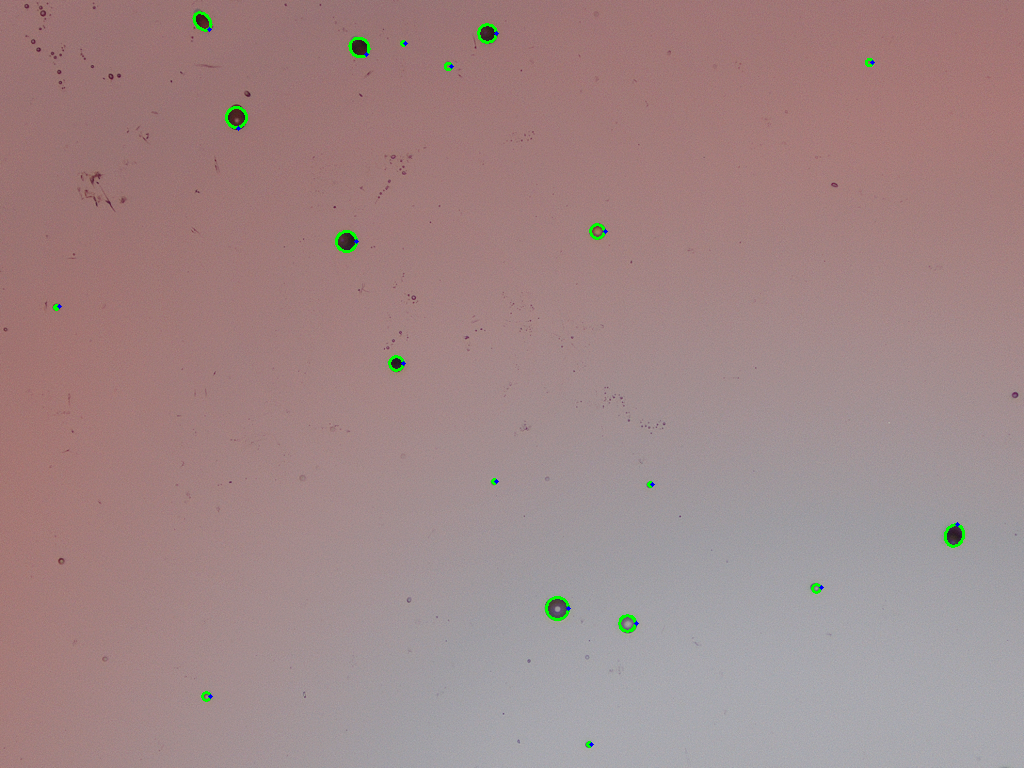circle: (545, 596, 568, 620), (478, 24, 496, 42), (619, 615, 636, 632), (589, 223, 605, 239), (388, 356, 403, 371), (811, 583, 821, 592), (202, 692, 210, 701), (444, 62, 451, 69), (866, 59, 872, 65), (53, 304, 59, 309), (400, 40, 405, 45), (491, 479, 496, 484), (647, 482, 652, 487), (586, 742, 591, 747)
ellipse: (335, 231, 357, 251), (349, 37, 369, 57), (194, 11, 211, 31)
